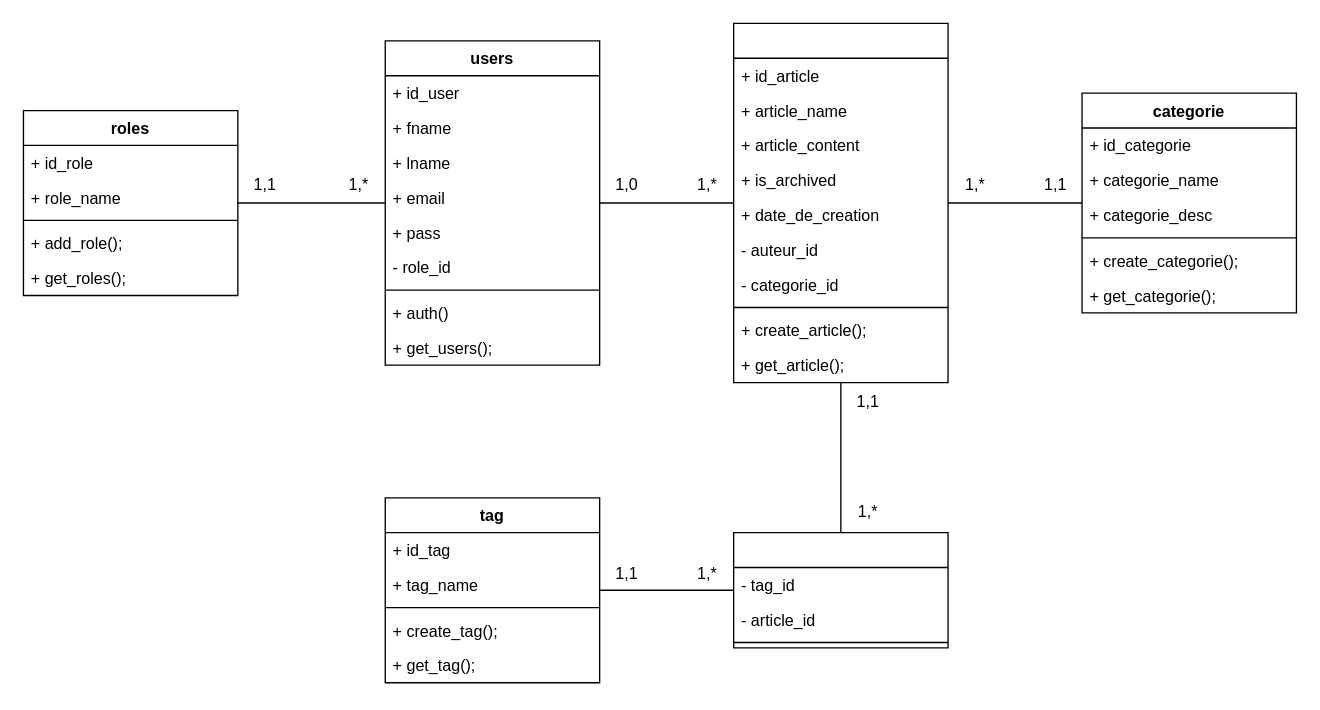
The diagram is 1320 pixels wide and 710 high, and some of its shapes have lost their labels. Here are the shapes that lost their labels. From the top down, the box of each, then its label:
(732, 22, 948, 383): wiki_article
(732, 531, 948, 648): wiki_tag
